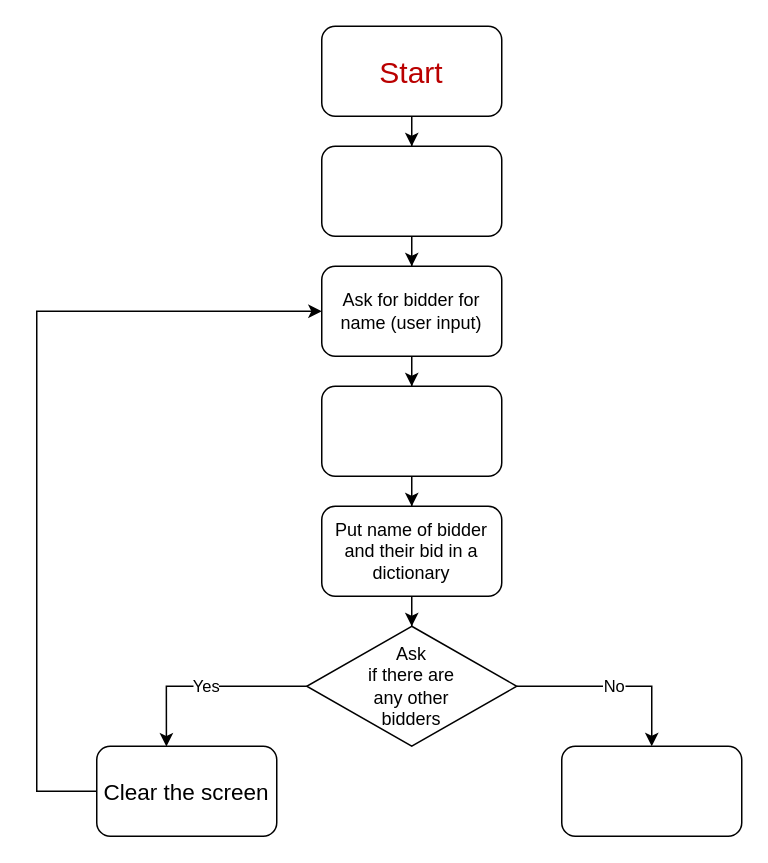
This 768x863 diagram has some shape labels left out. The centre of each missing label's shape, as x and y in pixels:
Ask named bidder for bid (user input): pixel 411 430
Find the highest bidder and announce that they're the winner: pixel 651 790
Import and print ASCII art logo from art.py: pixel 411 190
